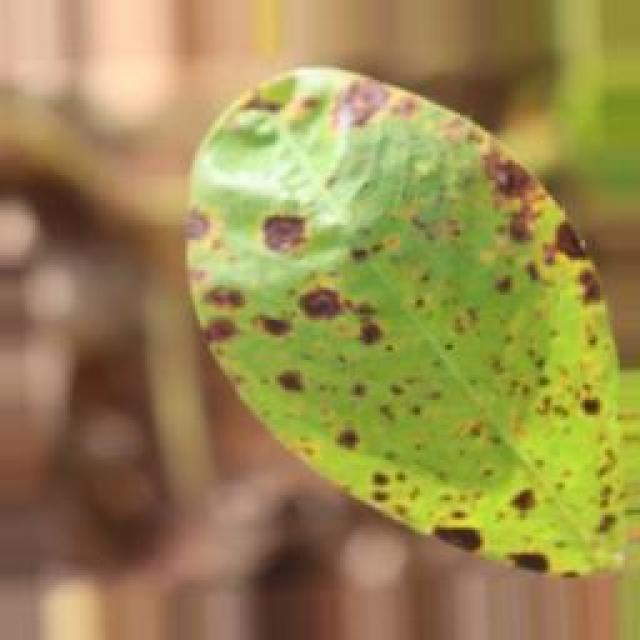Yellowish: (170, 37, 640, 588)
